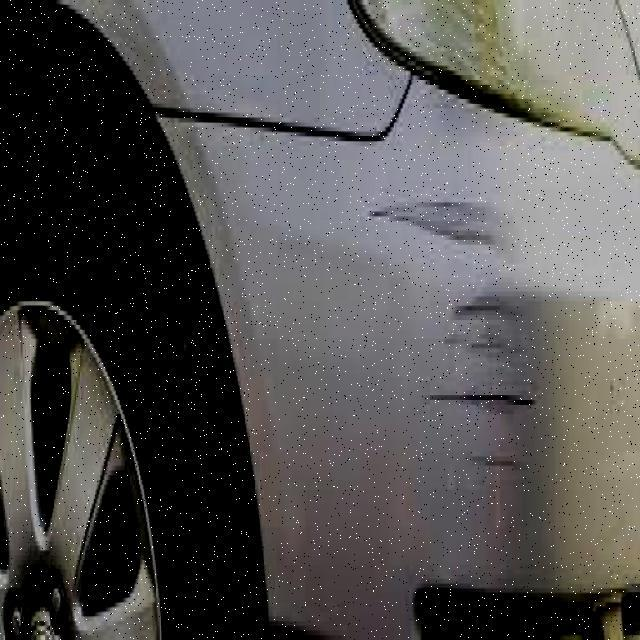car damage: (369, 193, 536, 480)
